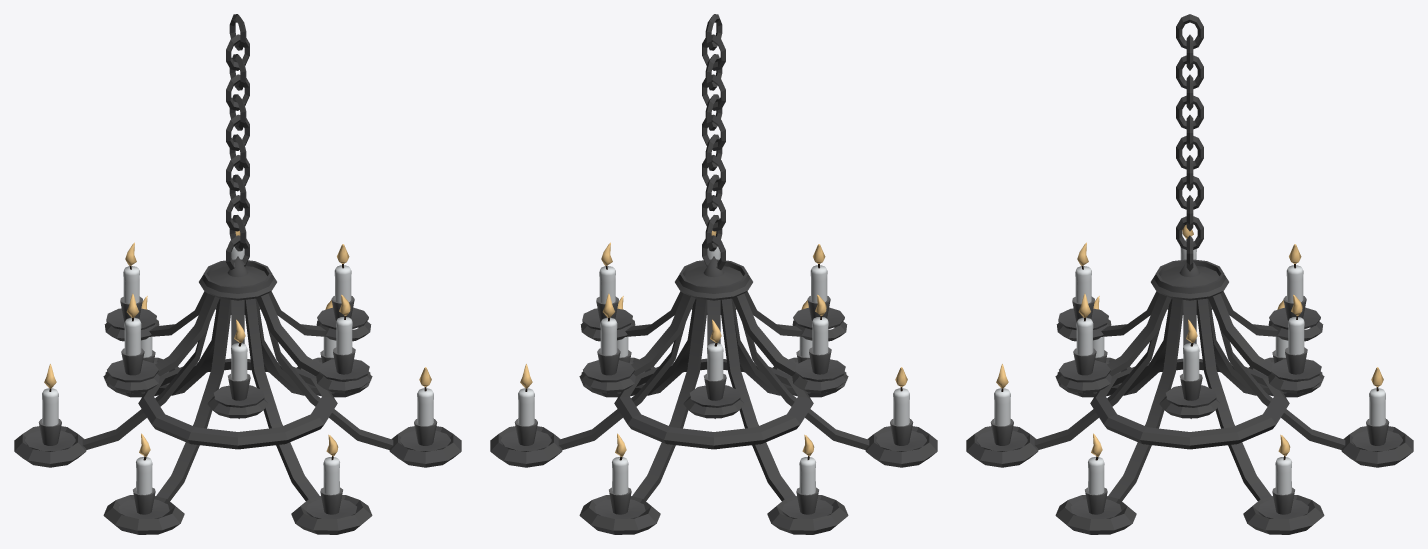
Rendered from CandleChandelier_B.fbx.
3 views of the same model, side by side, from view 1: azimuth 30°, elevation 25°; view 2: azimuth 150°, elevation 25°; view 3: azimuth 270°, elevation 25° (orthographic).
Visible parts, largest first — view 1: CandleChandelier_B; view 2: CandleChandelier_B; view 3: CandleChandelier_B.
Boxes of the visible parts, x1,y1,x2,y2 form: CandleChandelier_B: (14,14,461,534); CandleChandelier_B: (490,14,937,534); CandleChandelier_B: (966,14,1413,534).
Bounding box in the file's own units: 197 × 245 × 220.
